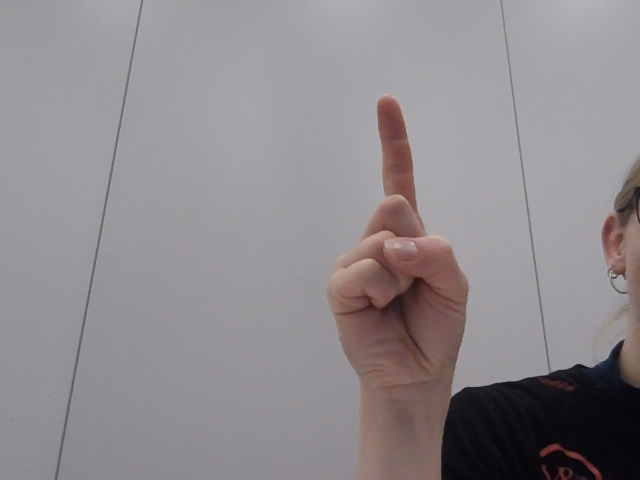up: (235, 83, 531, 379)
